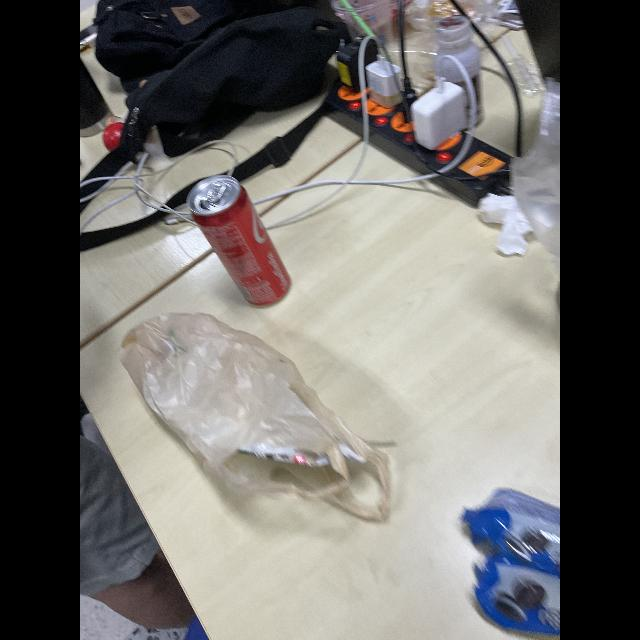can: (186, 172, 298, 308)
plastic_bag: (117, 308, 399, 532), (508, 73, 560, 289)
plastic_bottle: (431, 10, 485, 130)
plastic_box: (401, 1, 493, 35)
plastic_cup: (332, 1, 403, 64)
scrap_paper: (478, 186, 552, 264)
snack_bag: (460, 479, 560, 565), (468, 548, 560, 638)
straw: (342, 1, 378, 40)
